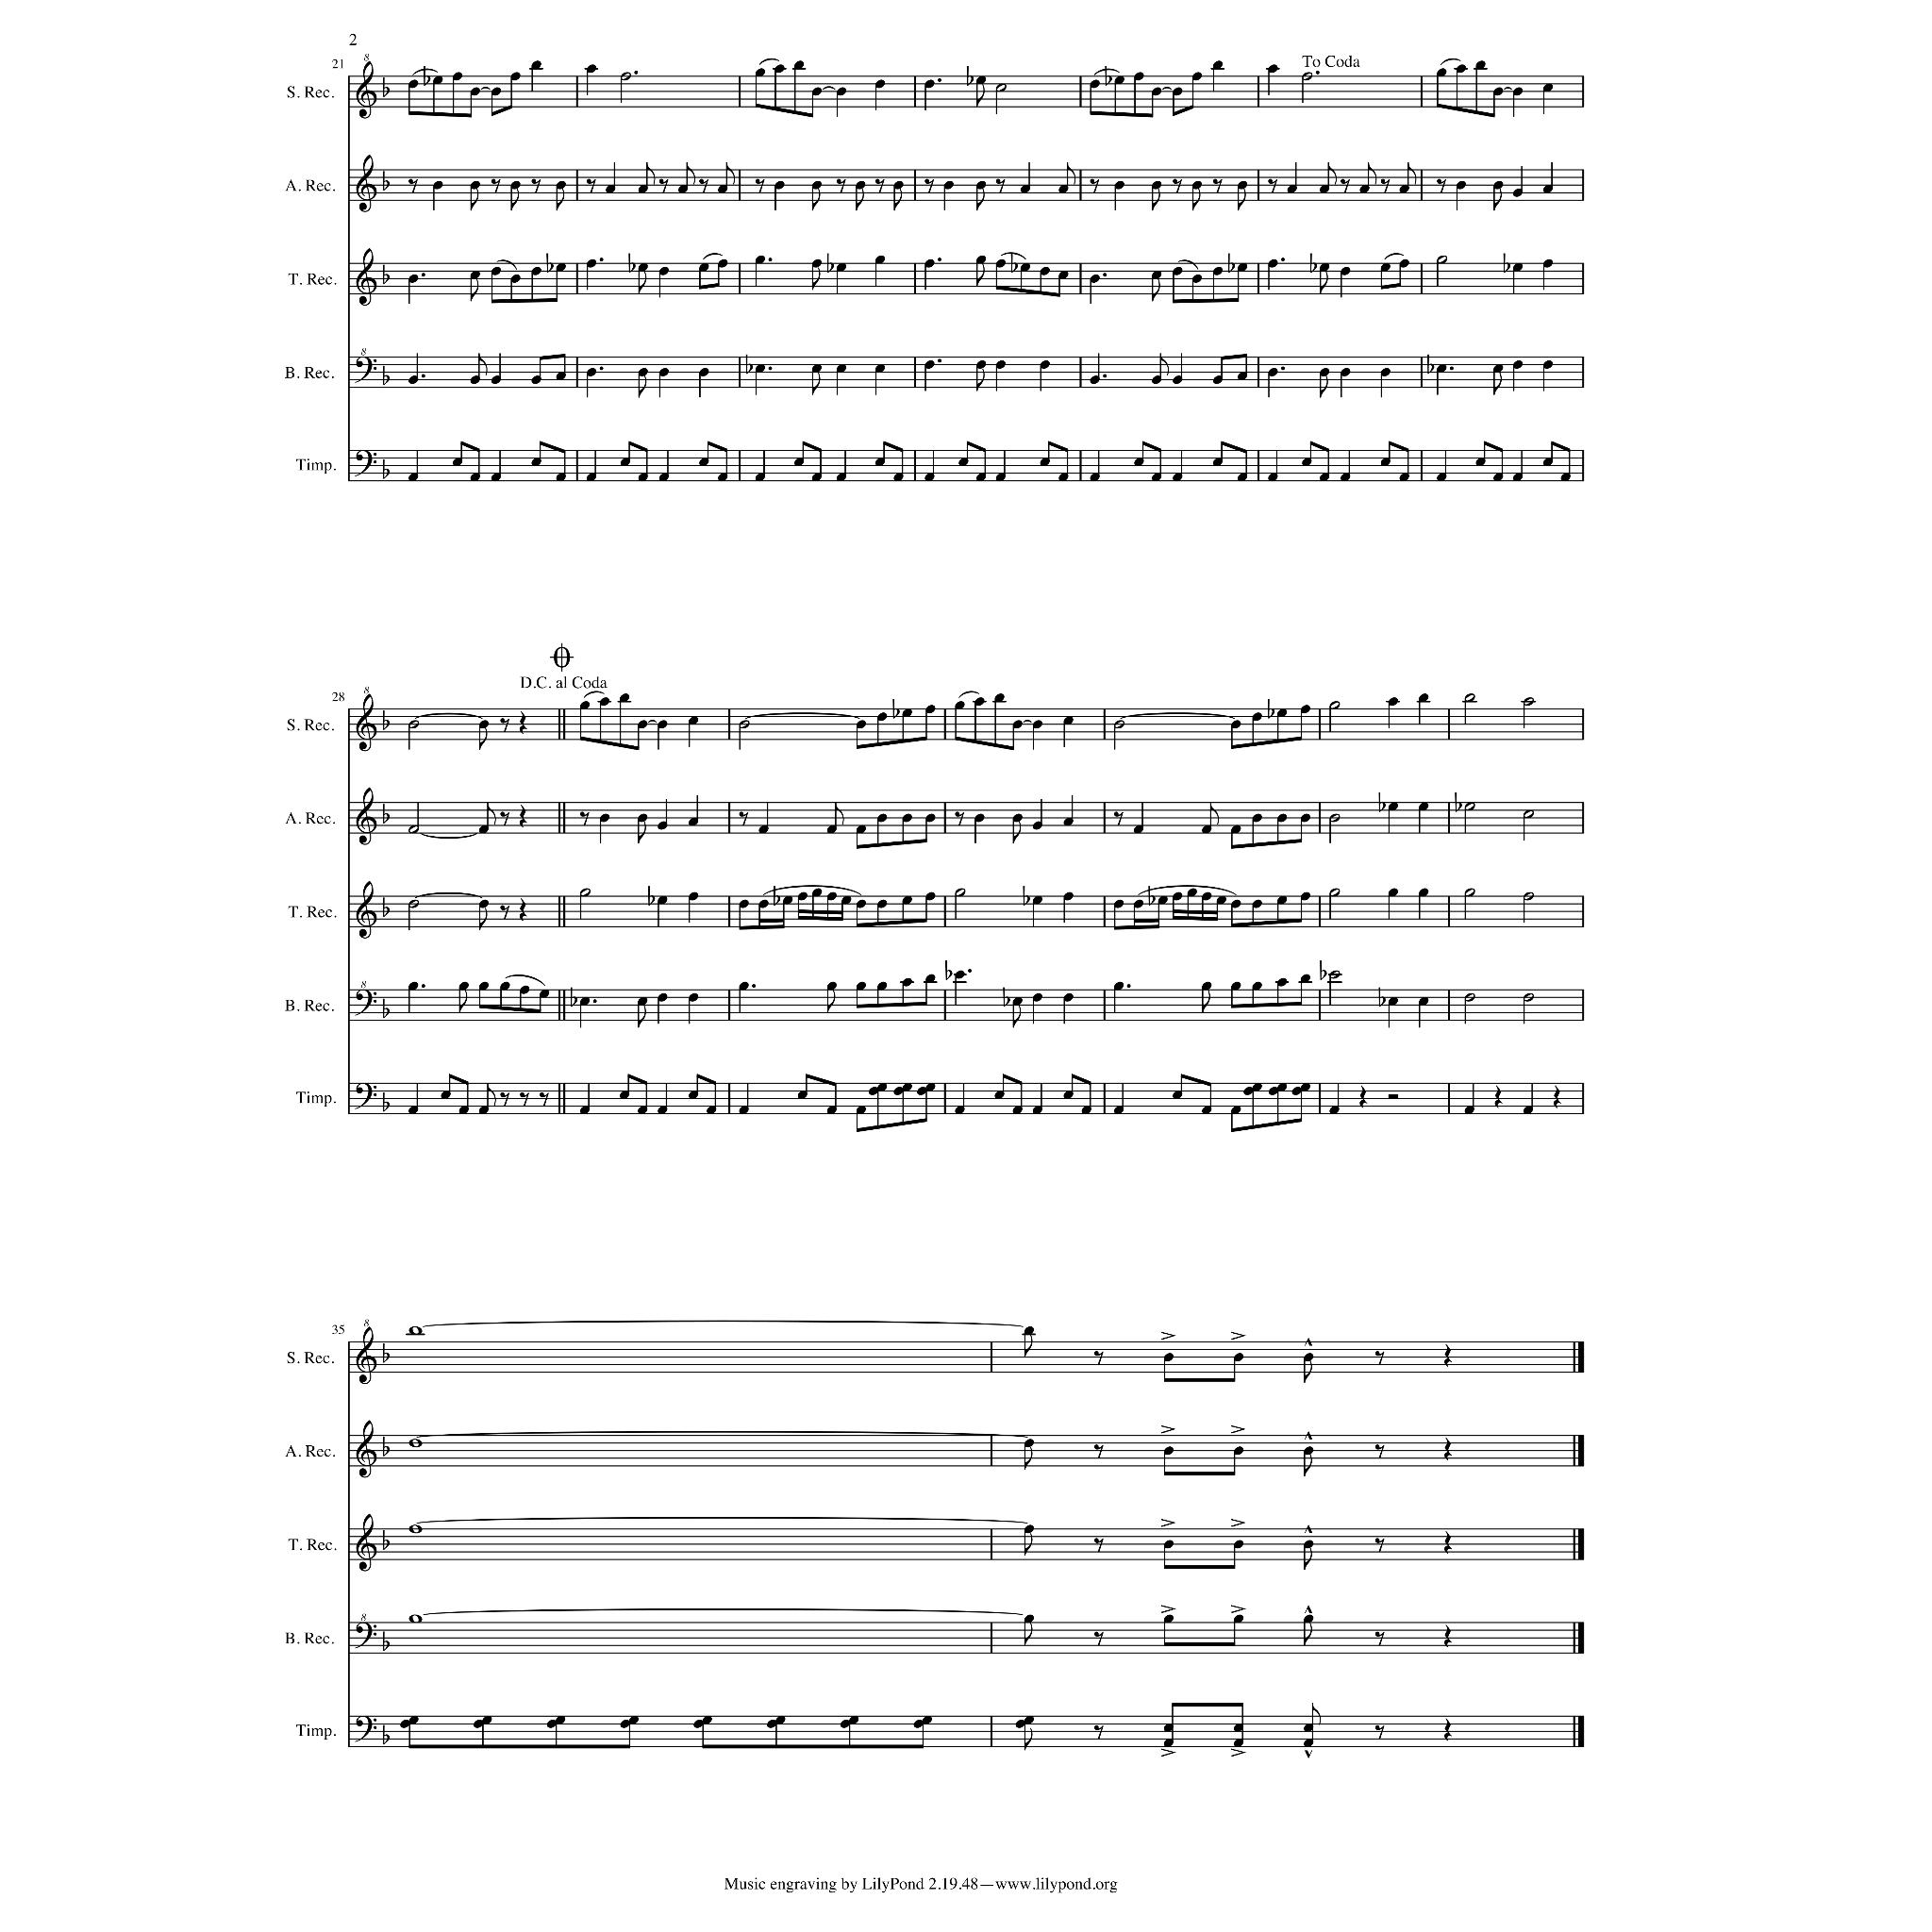fClef: (354, 450, 376, 476), (354, 357, 376, 383), (354, 1083, 376, 1109), (354, 990, 376, 1016), (354, 1716, 376, 1742), (354, 1623, 376, 1649)
flag8thDown: (470, 278, 479, 301), (470, 188, 479, 210), (1202, 990, 1211, 1012), (1304, 1454, 1313, 1476), (1304, 1360, 1313, 1383), (1304, 1623, 1313, 1645), (1304, 1547, 1313, 1570), (1192, 188, 1200, 210), (1239, 188, 1246, 210), (1153, 278, 1160, 301), (1153, 188, 1160, 210), (1494, 373, 1502, 395), (1494, 188, 1502, 210), (1320, 375, 1327, 398), (1320, 271, 1327, 293), (557, 188, 564, 210), (639, 375, 646, 398), (639, 271, 646, 293), (511, 188, 519, 210), (894, 188, 902, 210), (856, 188, 863, 210), (977, 84, 985, 107), (977, 369, 985, 391), (977, 263, 985, 286), (977, 188, 985, 210), (812, 373, 820, 395), (812, 188, 820, 210), (812, 267, 820, 290), (1013, 821, 1021, 843), (1013, 1005, 1021, 1027), (638, 1005, 645, 1027), (638, 821, 645, 843), (459, 990, 467, 1012), (479, 727, 487, 750), (479, 908, 487, 930), (827, 990, 835, 1012), (1024, 1727, 1032, 1750), (1024, 1623, 1032, 1645), (1024, 1533, 1032, 1556), (1024, 1447, 1032, 1470), (1024, 1335, 1032, 1357)
flag8thUp: (1368, 162, 1377, 185), (1407, 162, 1417, 185), (1209, 803, 1219, 825), (487, 803, 496, 825), (487, 1084, 496, 1107), (1068, 162, 1075, 185), (1160, 354, 1168, 376), (1328, 162, 1336, 185), (687, 162, 694, 185), (647, 162, 655, 185), (479, 354, 487, 376), (726, 162, 734, 185), (836, 803, 843, 825), (1313, 1703, 1321, 1725)
gClef: (356, 60, 376, 119), (356, 154, 376, 212), (356, 248, 376, 307), (356, 693, 376, 752), (356, 881, 376, 940), (356, 787, 376, 845), (356, 1420, 376, 1478), (356, 1326, 376, 1385), (356, 1513, 376, 1572)
noteheadBlack: (1172, 375, 1183, 385), (1172, 87, 1183, 96), (1089, 375, 1100, 385), (1089, 274, 1100, 283), (1089, 79, 1100, 89), (1151, 270, 1162, 279), (1151, 87, 1162, 96), (1151, 375, 1162, 385), (1475, 60, 1487, 70), (1492, 364, 1504, 374), (1492, 87, 1504, 96), (1340, 368, 1351, 377), (1319, 368, 1330, 377), (1319, 262, 1330, 272), (1398, 258, 1409, 268), (1436, 364, 1447, 374), (1436, 68, 1447, 77), (585, 368, 596, 377), (585, 258, 596, 268), (585, 64, 596, 74), (555, 372, 566, 381), (555, 262, 566, 272), (408, 375, 419, 385), (408, 274, 419, 283), (451, 72, 462, 81), (408, 79, 419, 89), (432, 75, 443, 85), (509, 274, 521, 283), (509, 72, 521, 81), (874, 364, 885, 374), (874, 255, 885, 264), (874, 79, 885, 89), (975, 360, 987, 370), (975, 255, 987, 264), (975, 75, 987, 85), (698, 368, 709, 377), (698, 262, 709, 272), (717, 258, 728, 268), (774, 64, 785, 74), (1251, 1083, 1262, 1092), (1251, 981, 1262, 991), (1251, 813, 1262, 823), (1230, 1106, 1241, 1115), (1230, 981, 1241, 991), (1230, 824, 1241, 834), (1011, 1106, 1023, 1115), (1011, 996, 1023, 1006), (1011, 813, 1023, 823), (974, 813, 985, 823), (1113, 1106, 1124, 1115), (1113, 981, 1124, 991), (1062, 817, 1074, 826), (1062, 992, 1074, 1002), (1464, 1106, 1475, 1115), (1523, 1106, 1534, 1115), (1300, 1083, 1311, 1092), (1291, 1087, 1302, 1096), (1300, 974, 1311, 983), (1328, 1106, 1340, 1115), (1268, 1087, 1279, 1096), (1300, 813, 1311, 823), (1300, 705, 1311, 714), (598, 813, 609, 823), (657, 1106, 668, 1115), (657, 992, 668, 1002), (657, 821, 668, 830), (408, 1106, 419, 1115), (408, 981, 419, 991), (477, 1106, 489, 1115), (477, 981, 489, 991), (477, 824, 489, 834), (892, 1087, 904, 1096), (855, 1106, 866, 1115), (855, 981, 866, 991), (855, 824, 866, 834), (924, 974, 936, 983), (924, 813, 936, 823), (924, 705, 936, 714), (924, 1083, 936, 1092), (738, 981, 749, 991), (738, 1106, 749, 1115), (706, 1106, 717, 1115), (1162, 1723, 1174, 1732), (1162, 1739, 1174, 1748), (1162, 1540, 1174, 1549), (1162, 1446, 1174, 1456), (1162, 1353, 1174, 1362), (481, 1715, 492, 1724), (472, 1719, 483, 1728), (766, 1719, 777, 1728), (692, 1719, 704, 1728), (619, 1719, 630, 1728), (555, 1715, 566, 1724), (545, 1719, 557, 1728), (408, 1715, 419, 1724), (1213, 60, 1223, 70), (1192, 274, 1202, 283), (996, 258, 1006, 268), (1213, 375, 1223, 385), (996, 360, 1006, 370), (1192, 72, 1202, 81), (1238, 372, 1247, 381), (1238, 262, 1247, 272), (1268, 368, 1277, 377), (1268, 258, 1277, 268), (1268, 64, 1277, 74), (1040, 360, 1049, 370), (1021, 262, 1030, 272), (1058, 270, 1068, 279), (1134, 72, 1143, 81), (1115, 75, 1124, 85), (1513, 360, 1523, 370), (1513, 262, 1523, 272), (1513, 188, 1523, 197), (1513, 87, 1523, 96), (1543, 360, 1553, 370), (1543, 258, 1553, 268), (1543, 83, 1553, 92), (1457, 64, 1466, 74), (1381, 368, 1391, 377), (1381, 262, 1391, 272), (531, 375, 541, 385), (658, 368, 668, 377), (638, 368, 647, 377), (638, 262, 647, 272), (491, 375, 500, 385), (531, 60, 541, 70), (470, 87, 479, 96), (470, 375, 479, 385), (470, 270, 479, 279), (491, 87, 500, 96), (924, 360, 934, 370), (924, 258, 934, 268), (924, 79, 934, 89), (836, 364, 845, 374), (836, 262, 845, 272), (836, 87, 845, 96), (755, 364, 764, 374), (755, 255, 764, 264), (755, 68, 764, 77), (811, 258, 821, 268), (811, 87, 821, 96), (811, 364, 821, 374), (794, 60, 804, 70), (1202, 1106, 1211, 1115), (1202, 981, 1211, 991), (1202, 824, 1211, 834), (1134, 824, 1143, 834), (1243, 1087, 1253, 1096), (1032, 1106, 1041, 1115), (1032, 992, 1041, 1002), (1032, 821, 1041, 830), (1081, 1106, 1091, 1115), (1419, 996, 1428, 1006), (1419, 802, 1428, 811), (1277, 1083, 1287, 1092), (1277, 977, 1287, 987), (1277, 813, 1287, 823), (1389, 996, 1398, 1006), (1389, 802, 1398, 811), (579, 1106, 589, 1115), (579, 996, 589, 1006), (689, 992, 698, 1002), (689, 817, 698, 826), (638, 1106, 647, 1115), (638, 996, 647, 1006), (638, 813, 647, 823), (458, 1106, 468, 1115), (458, 981, 468, 991), (520, 985, 529, 994), (500, 981, 509, 991), (902, 1083, 911, 1092), (902, 977, 911, 987), (902, 813, 911, 823), (877, 1083, 887, 1092), (869, 1087, 878, 1096), (877, 981, 887, 991), (877, 813, 887, 823), (955, 970, 964, 979), (955, 1106, 964, 1115), (917, 1087, 926, 1096), (758, 824, 768, 834), (826, 1106, 836, 1115), (826, 981, 836, 991), (826, 824, 836, 834), (1304, 1540, 1313, 1549), (1304, 1723, 1313, 1732), (1304, 1739, 1313, 1748), (1304, 1446, 1313, 1456), (1304, 1353, 1313, 1362), (1234, 1739, 1243, 1748), (1234, 1540, 1243, 1549), (1234, 1446, 1243, 1456), (1234, 1353, 1243, 1362), (1234, 1723, 1243, 1732), (775, 1715, 785, 1724), (702, 1715, 711, 1724), (628, 1715, 638, 1724), (400, 1719, 409, 1728), (913, 1719, 923, 1728), (1015, 1719, 1024, 1728), (1024, 1524, 1034, 1534), (923, 1715, 932, 1724), (1024, 1326, 1034, 1336), (849, 1715, 858, 1724), (840, 1719, 849, 1728), (1024, 1715, 1034, 1724), (1172, 268, 1183, 275), (1172, 474, 1183, 481), (1089, 474, 1100, 481), (1151, 181, 1162, 189), (1151, 474, 1162, 481), (1475, 458, 1487, 466), (1492, 474, 1504, 481), (1492, 181, 1504, 189), (1560, 474, 1572, 481), (1340, 474, 1351, 481), (1340, 268, 1351, 275), (1358, 185, 1370, 192), (1319, 474, 1330, 481), (1319, 185, 1330, 192), (1398, 474, 1409, 481), (1398, 185, 1409, 192), (1436, 474, 1447, 481), (585, 474, 596, 481), (555, 474, 566, 481), (555, 181, 566, 189), (619, 458, 630, 466), (408, 474, 419, 481), (432, 181, 443, 189), (451, 458, 462, 466), (509, 181, 521, 189), (874, 458, 885, 466), (892, 474, 904, 481), (892, 181, 904, 189), (855, 181, 866, 189), (975, 474, 987, 481), (975, 181, 987, 189), (698, 458, 709, 466), (717, 474, 728, 481), (717, 185, 728, 192), (774, 181, 785, 189), (1172, 1091, 1183, 1098), (1172, 892, 1183, 900), (1157, 896, 1168, 904), (1251, 900, 1262, 908), (1251, 713, 1262, 721), (1230, 721, 1241, 728), (1230, 900, 1241, 908), (1011, 721, 1023, 728), (974, 698, 985, 706), (1113, 900, 1124, 908), (1062, 717, 1074, 724), (1062, 1091, 1074, 1098), (1062, 892, 1074, 900), (1300, 892, 1311, 900), (598, 698, 609, 706), (657, 896, 668, 904), (619, 1091, 630, 1098), (619, 694, 630, 702), (657, 721, 668, 728), (440, 1091, 451, 1098), (477, 900, 489, 908), (477, 721, 489, 728), (855, 900, 866, 908), (855, 721, 866, 728), (924, 892, 936, 900), (738, 900, 749, 908), (811, 889, 823, 896), (796, 1091, 808, 1098), (796, 892, 808, 900), (1162, 1615, 1174, 1623), (996, 474, 1006, 481), (1213, 268, 1223, 275), (1213, 458, 1223, 466), (1192, 181, 1202, 189), (1238, 474, 1247, 481), (1238, 181, 1247, 189), (1268, 474, 1277, 481), (1040, 458, 1049, 466), (1040, 268, 1049, 275), (1021, 185, 1030, 192), (1058, 474, 1068, 481), (1058, 185, 1068, 192), (1134, 458, 1143, 466), (1115, 181, 1124, 189), (1513, 474, 1523, 481), (1543, 185, 1553, 192), (1543, 458, 1553, 466), (1457, 181, 1466, 189), (1381, 458, 1391, 466), (1302, 458, 1311, 466), (1287, 185, 1296, 192), (531, 458, 541, 466), (531, 268, 541, 275), (658, 268, 668, 275), (677, 185, 687, 192), (658, 474, 668, 481), (606, 185, 615, 192), (638, 474, 647, 481), (638, 185, 647, 192), (491, 474, 500, 481), (491, 268, 500, 275), (470, 474, 479, 481), (470, 181, 479, 189), (924, 474, 934, 481), (836, 474, 845, 481), (958, 458, 968, 466), (943, 181, 953, 189), (755, 474, 764, 481), (811, 181, 821, 189), (794, 458, 804, 466), (811, 474, 821, 481), (1202, 892, 1211, 900), (1187, 889, 1196, 896), (1134, 900, 1143, 908), (1217, 896, 1226, 904), (1032, 896, 1041, 904), (1032, 721, 1041, 728), (994, 1091, 1004, 1098), (994, 694, 1004, 702), (1419, 889, 1428, 896), (1419, 694, 1428, 702), (1277, 896, 1287, 904), (1277, 709, 1287, 717), (1389, 889, 1398, 896), (1389, 698, 1398, 706), (579, 702, 589, 709), (540, 991, 549, 998), (689, 1091, 698, 1098), (689, 717, 698, 724), (638, 721, 647, 728), (689, 892, 698, 900), (902, 896, 911, 904), (902, 709, 911, 717), (877, 900, 887, 908), (877, 713, 887, 721), (955, 702, 964, 709), (758, 900, 768, 908), (783, 896, 792, 904), (826, 892, 836, 900), (841, 896, 851, 904), (1304, 1615, 1313, 1623), (1234, 1615, 1243, 1623), (1024, 1615, 1034, 1623), (1024, 1440, 1034, 1447)
noteheadHalf: (995, 83, 1007, 92), (1302, 72, 1313, 81), (1437, 255, 1448, 264), (620, 72, 631, 81), (1464, 992, 1475, 1002), (1464, 802, 1475, 811), (1523, 992, 1534, 1002), (1523, 809, 1534, 819), (1329, 813, 1341, 823), (1329, 970, 1341, 979), (408, 824, 419, 834), (1113, 721, 1124, 728), (1464, 889, 1475, 896), (1464, 694, 1475, 702), (1523, 892, 1534, 900), (1523, 698, 1534, 706), (1329, 889, 1341, 896), (1329, 702, 1341, 709), (579, 889, 591, 896), (408, 900, 419, 908), (408, 721, 419, 728), (954, 889, 965, 896), (738, 721, 749, 728)
noteheadWhole: (408, 1524, 423, 1534), (408, 1439, 423, 1448), (408, 1326, 423, 1336), (408, 1615, 423, 1623)
rest8th: (1212, 178, 1222, 193), (995, 178, 1005, 193), (1173, 178, 1182, 193), (1268, 178, 1277, 193), (1090, 178, 1099, 193), (1341, 178, 1350, 193), (1380, 178, 1390, 193), (1437, 178, 1446, 193), (586, 178, 595, 193), (658, 178, 668, 193), (531, 178, 541, 193), (408, 178, 417, 193), (491, 178, 500, 193), (924, 178, 934, 193), (836, 178, 845, 193), (874, 178, 884, 193), (755, 178, 764, 193), (698, 178, 708, 193), (1113, 811, 1123, 826), (579, 811, 589, 826), (539, 1092, 548, 1108), (500, 1092, 509, 1108), (519, 1092, 528, 1108), (500, 811, 509, 826), (500, 718, 509, 733), (955, 811, 964, 826), (739, 811, 748, 826), (1374, 1724, 1384, 1740), (1374, 1631, 1384, 1646), (1374, 1538, 1384, 1553), (1374, 1444, 1384, 1459), (1374, 1351, 1384, 1366), (1093, 1724, 1103, 1740), (1093, 1631, 1103, 1646), (1093, 1538, 1103, 1553), (1093, 1444, 1103, 1459), (1093, 1351, 1103, 1366), (500, 906, 509, 919)
restHalf: (1389, 1094, 1398, 1098)
restQuarter: (1494, 1085, 1504, 1109), (1553, 1085, 1562, 1109), (1358, 1085, 1368, 1109), (1443, 1530, 1453, 1555), (1443, 1343, 1453, 1368), (1443, 1719, 1453, 1741), (1443, 1624, 1453, 1647), (1443, 1438, 1453, 1460), (519, 804, 526, 828), (519, 898, 526, 921), (519, 711, 526, 734)
